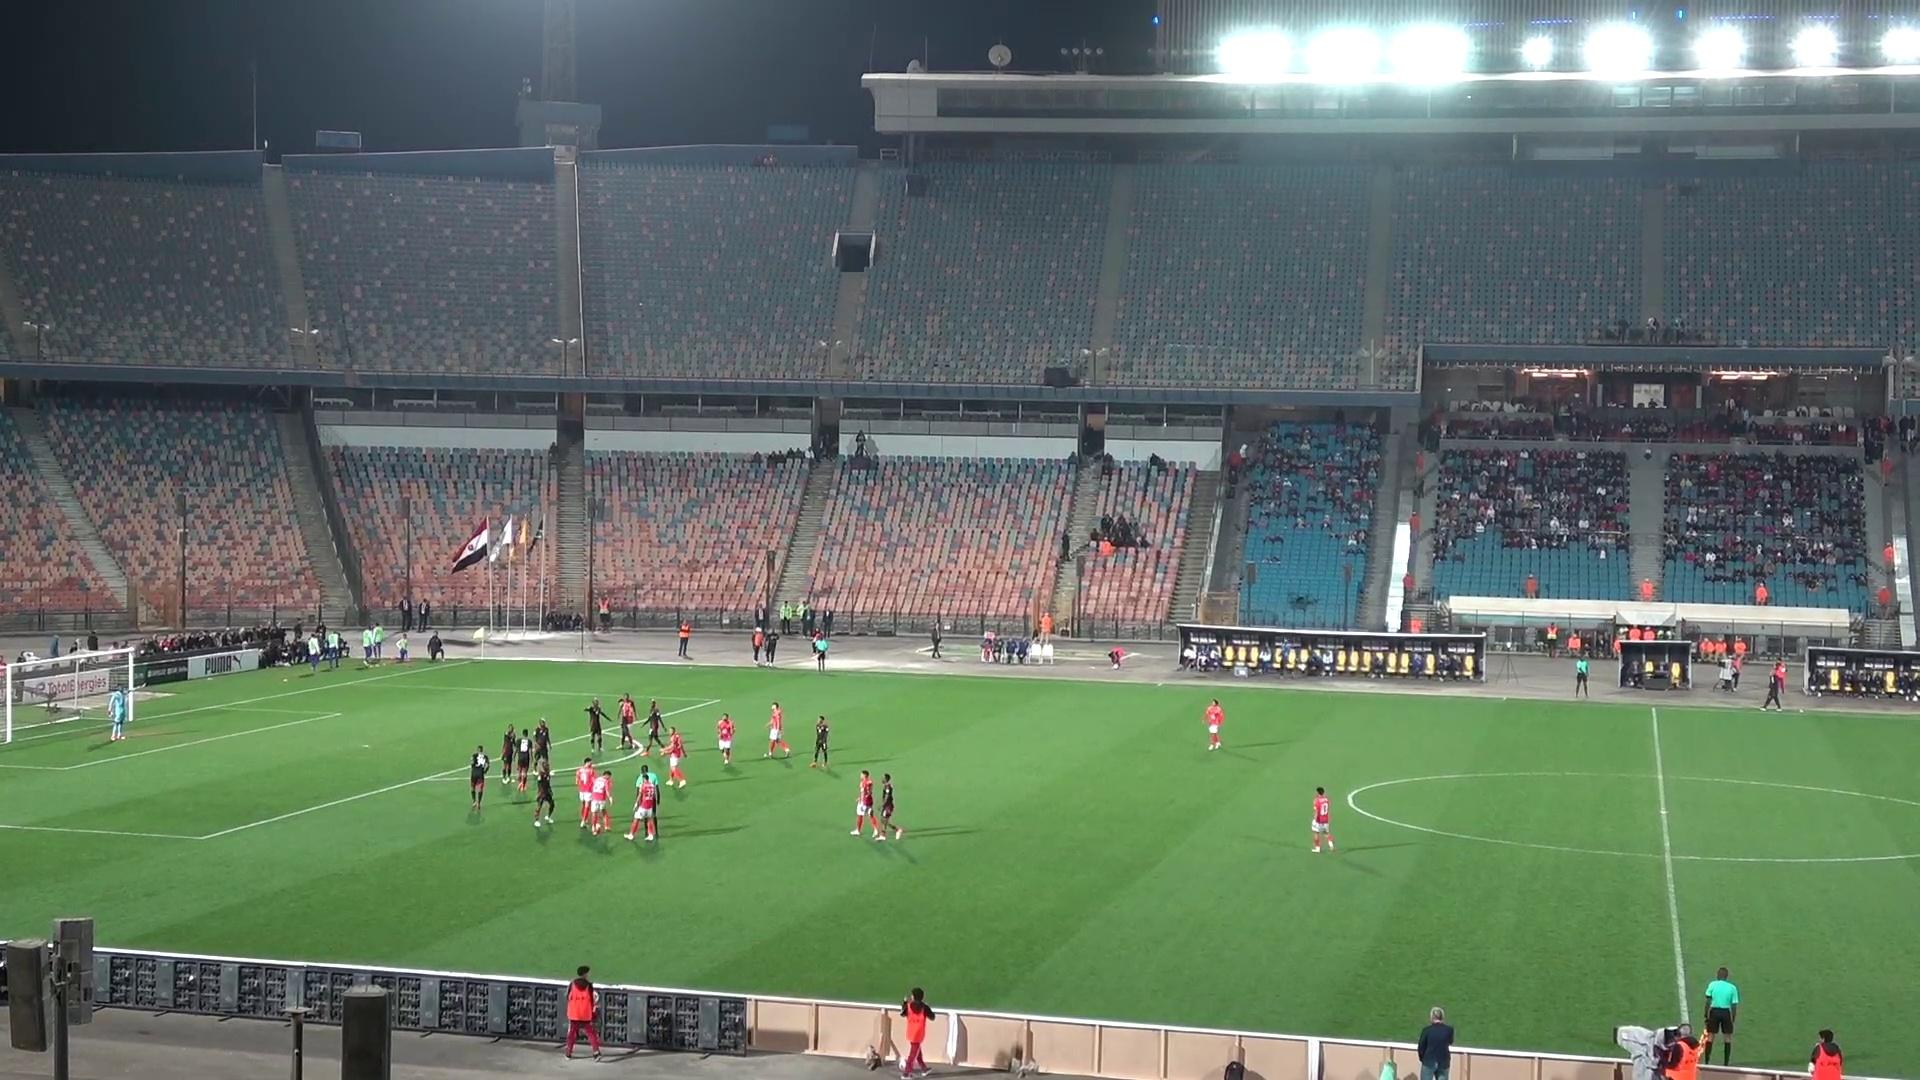GK2: (107, 686, 135, 740)
Refree: (1702, 968, 1741, 1064), (1575, 654, 1592, 698), (812, 630, 829, 673)
Team1: (851, 769, 886, 839), (626, 766, 659, 841), (653, 727, 687, 789), (574, 756, 596, 828), (1309, 787, 1335, 851), (587, 769, 612, 832), (1199, 698, 1225, 752), (765, 702, 791, 756), (716, 713, 735, 764)
Team2: (873, 774, 905, 837), (531, 760, 555, 827), (642, 700, 669, 752), (524, 717, 550, 767), (469, 746, 489, 810), (808, 713, 831, 769), (583, 699, 605, 752), (501, 724, 520, 785), (517, 731, 533, 793)
